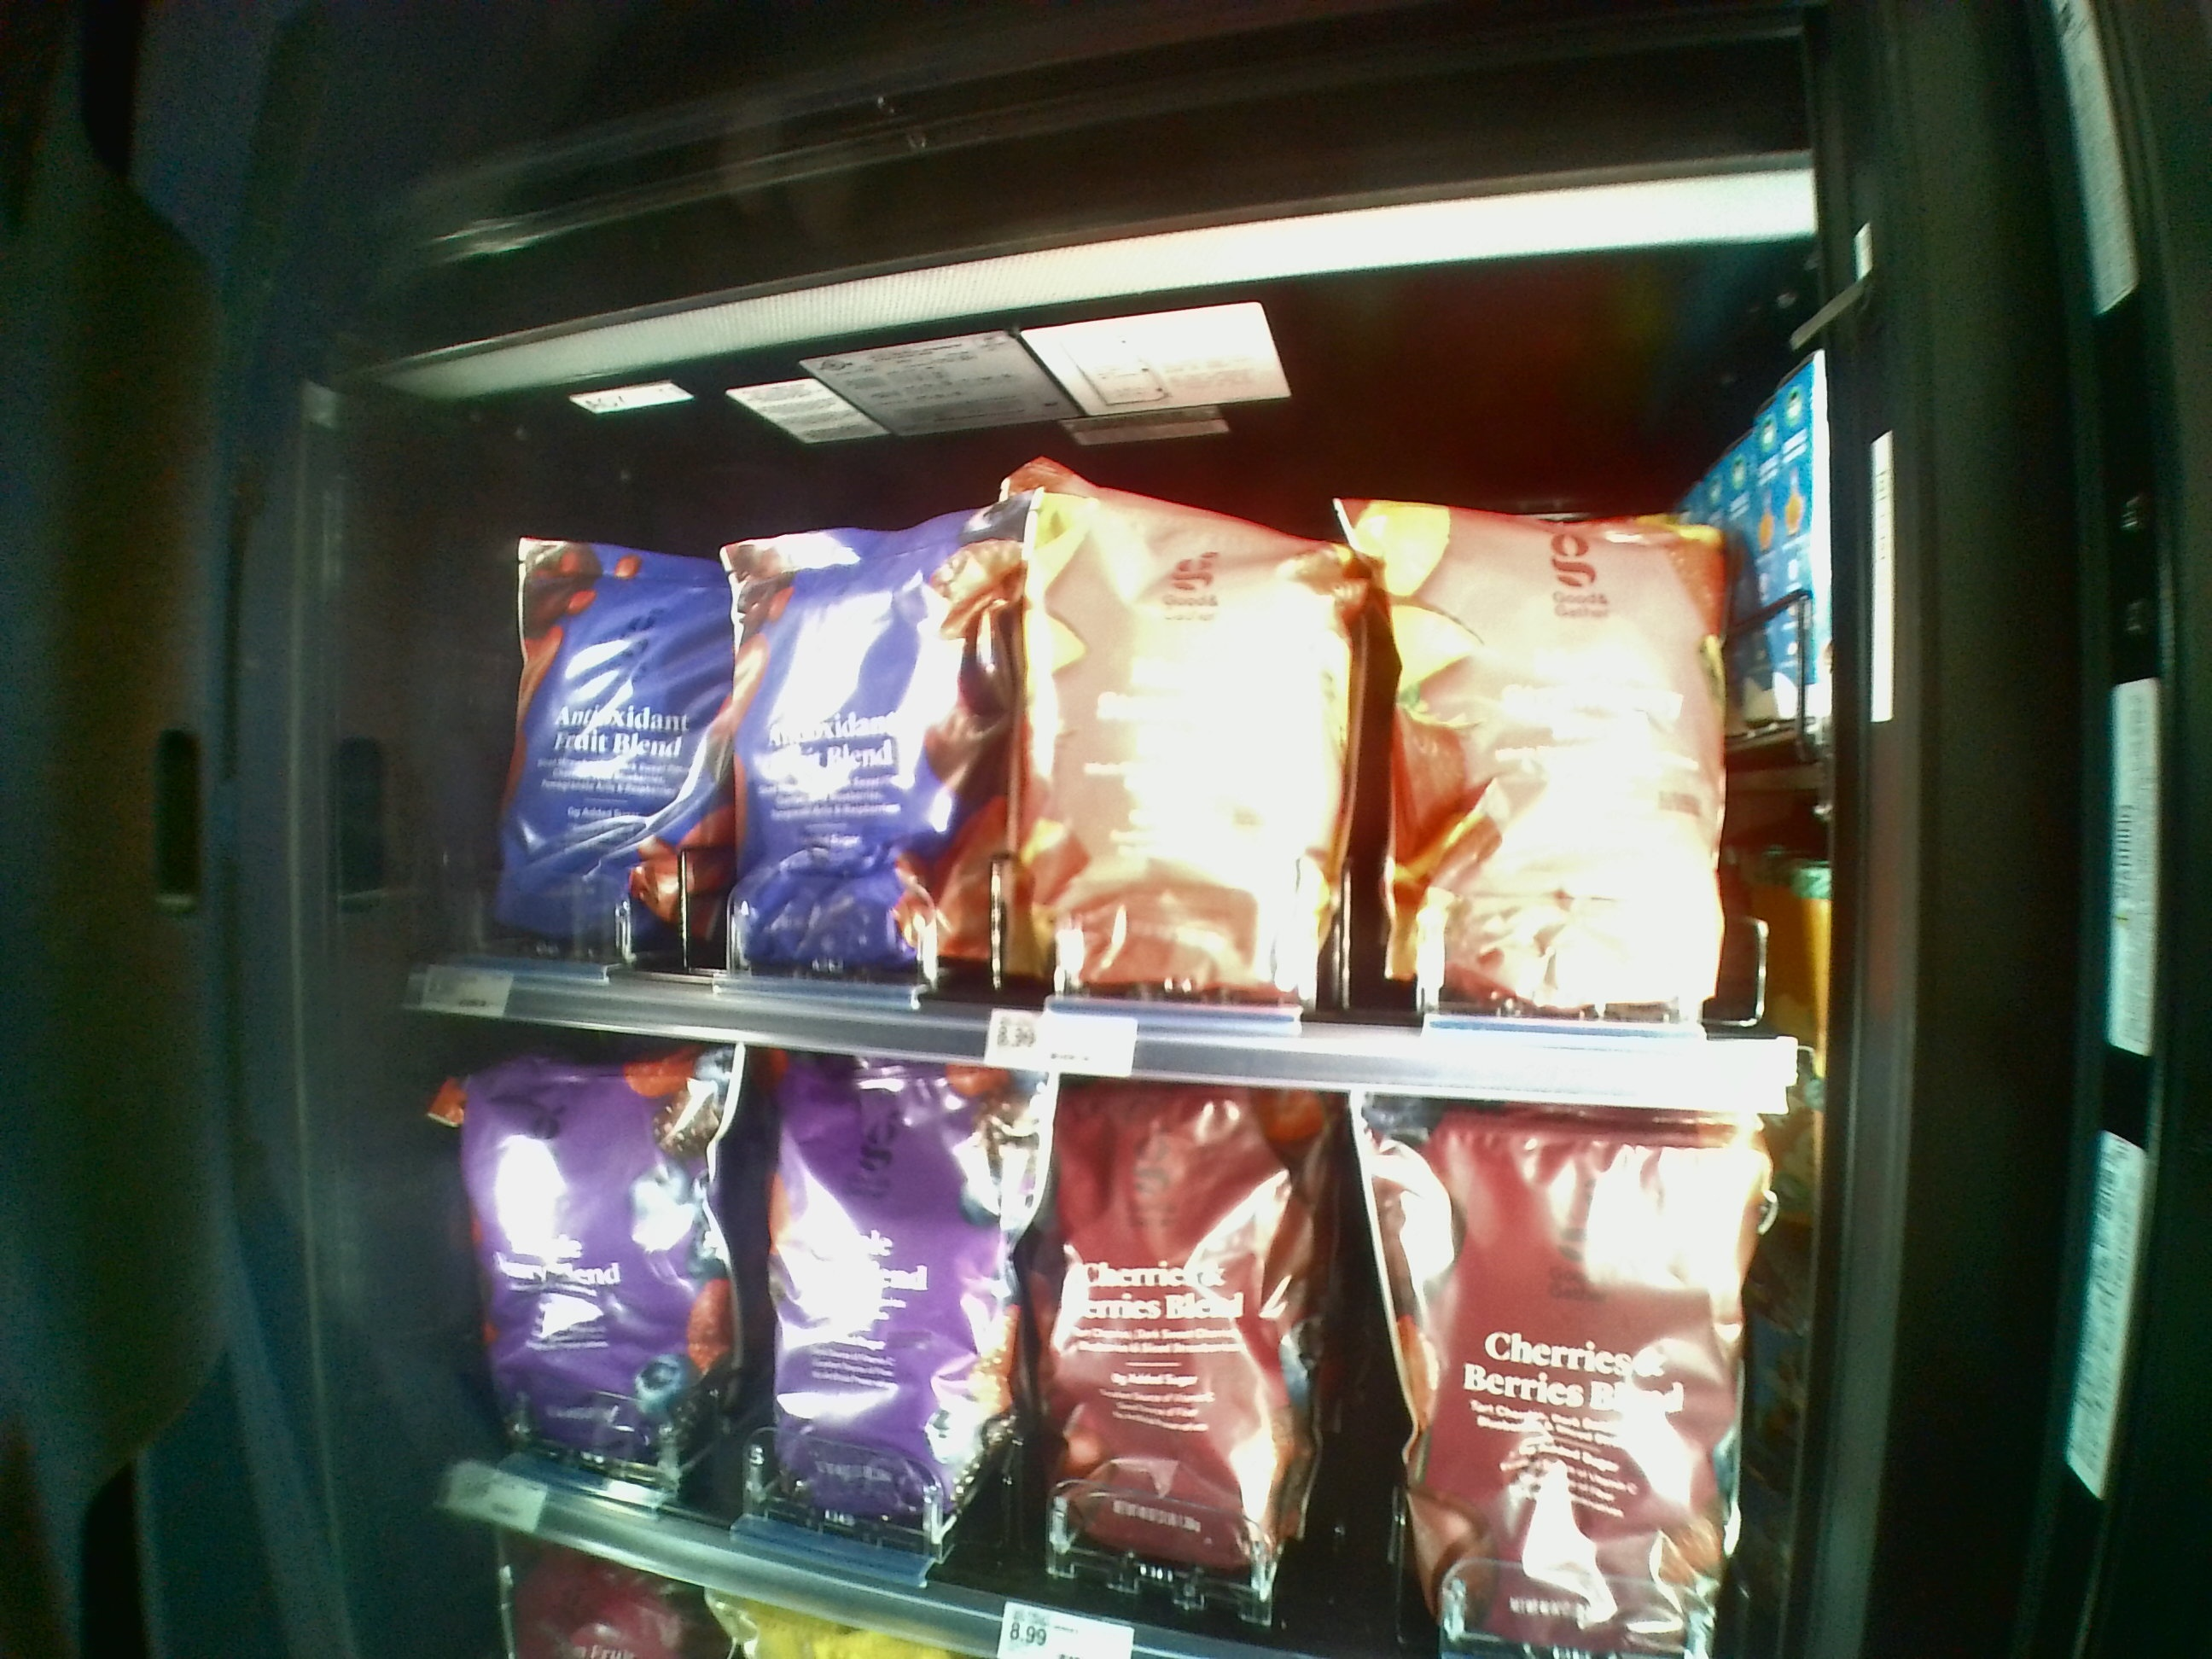shelf: (392, 364, 1824, 1115), (432, 1030, 1799, 1659)
